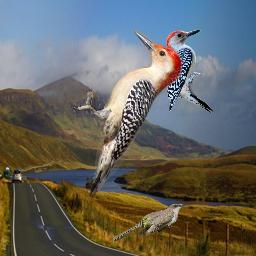Cuckoo: (112, 203, 184, 241)
Woodpecker: (71, 30, 185, 200), (162, 26, 218, 120)
